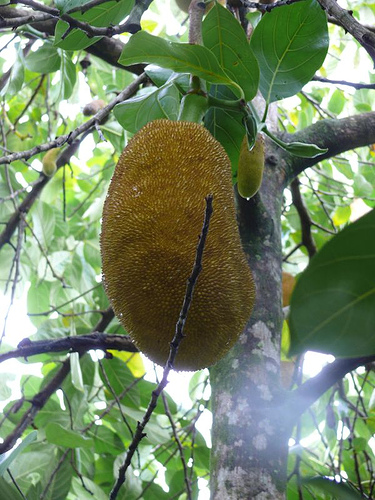jackfruit: (100, 118, 255, 373)
